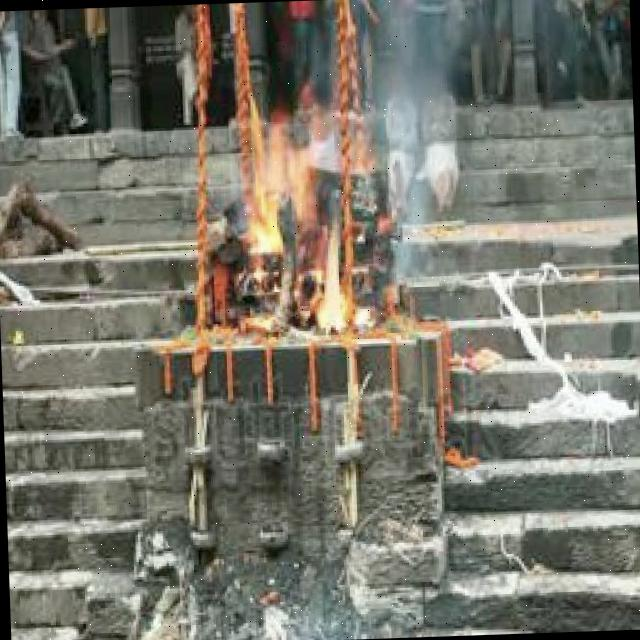fire: (240, 103, 357, 334)
